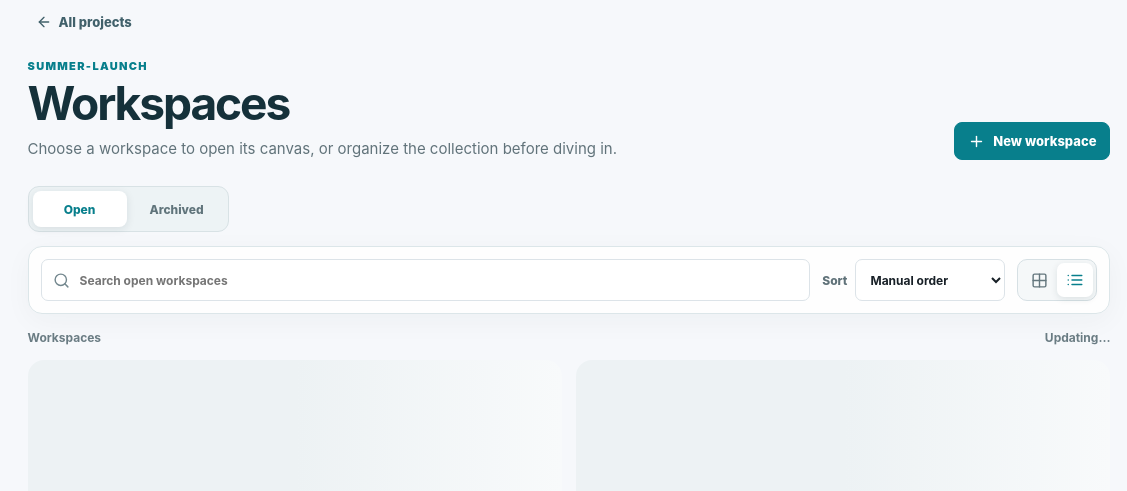
Test: ProjectOverview › ignores an older workspace response that resolves after a collection switch
Click the tab "Archived" at x=176, y=209, box [130,191,224,227]
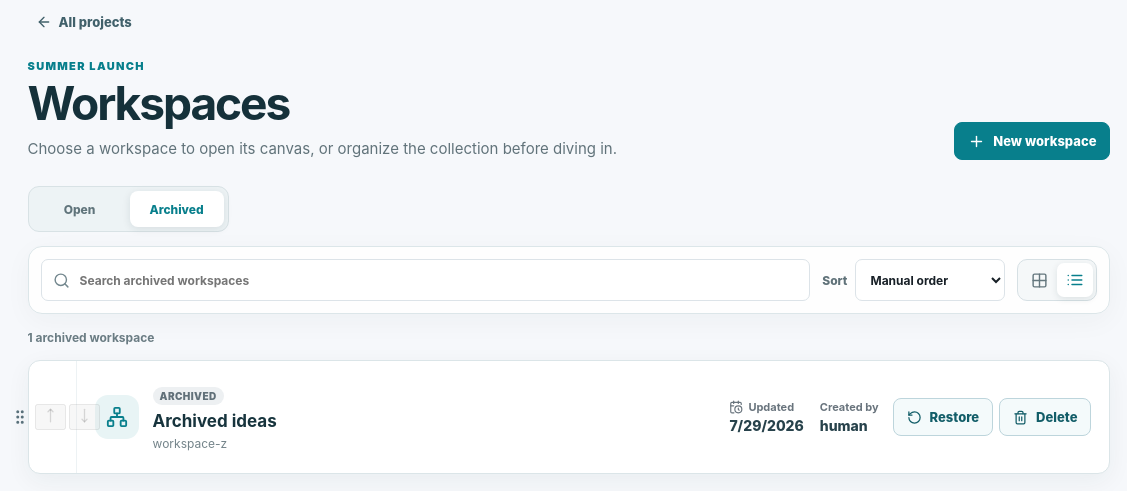
Now the text "Archived ideas" is shown, box [152,411,277,431]
